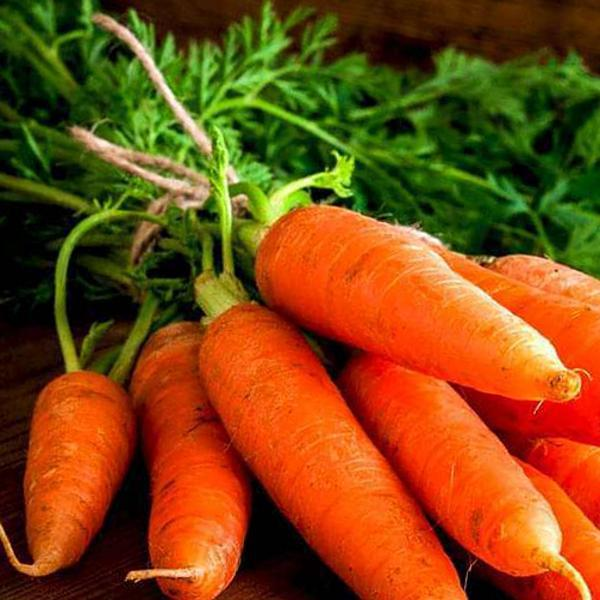carrot: (0, 198, 600, 600), (298, 267, 600, 600), (183, 267, 472, 600), (239, 184, 600, 414), (118, 316, 241, 592), (12, 365, 131, 575)
